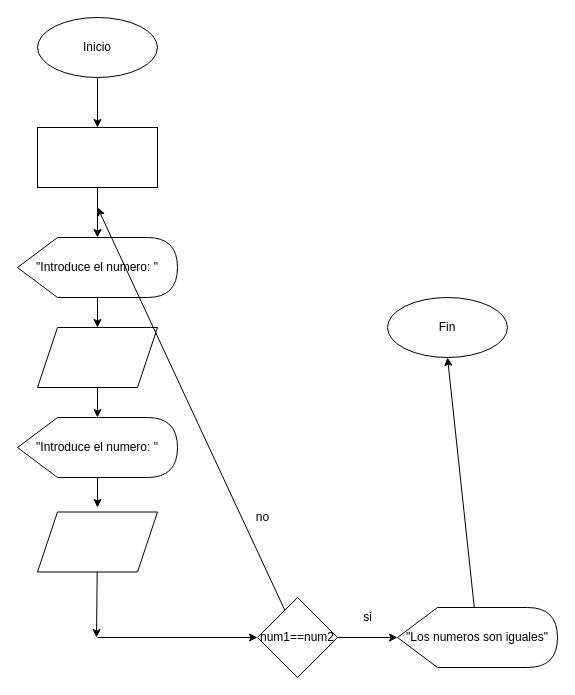
Some shapes in this 575 by 695 pixel diagram are drawn without their labels. The box of each missing label's shape, as (x1, y1, x2, y2) in pixels:
num1: (36, 326, 158, 388)
num1 = 0 num2 = 0: (36, 126, 158, 188)
num2: (36, 511, 158, 572)
